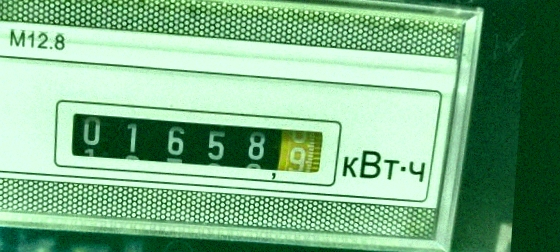0: (80, 114, 102, 145)
1: (122, 120, 142, 153)
5: (204, 128, 227, 160)
6: (164, 122, 187, 156)
8: (245, 127, 267, 161)
9: (284, 144, 307, 173)
screen: (42, 90, 347, 193)
